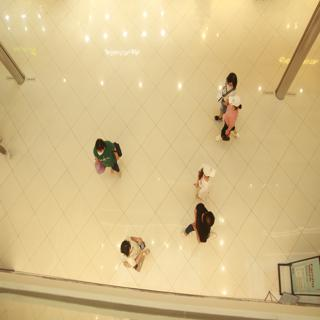person: (74, 125, 142, 192), (181, 201, 227, 253), (185, 157, 226, 198), (119, 230, 156, 275), (221, 98, 241, 144), (216, 63, 241, 99)
